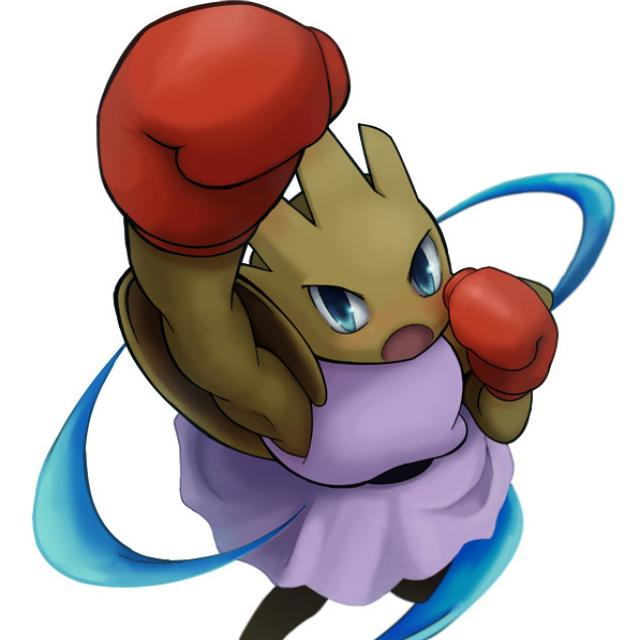Hitmonchan: (116, 2, 553, 638)
